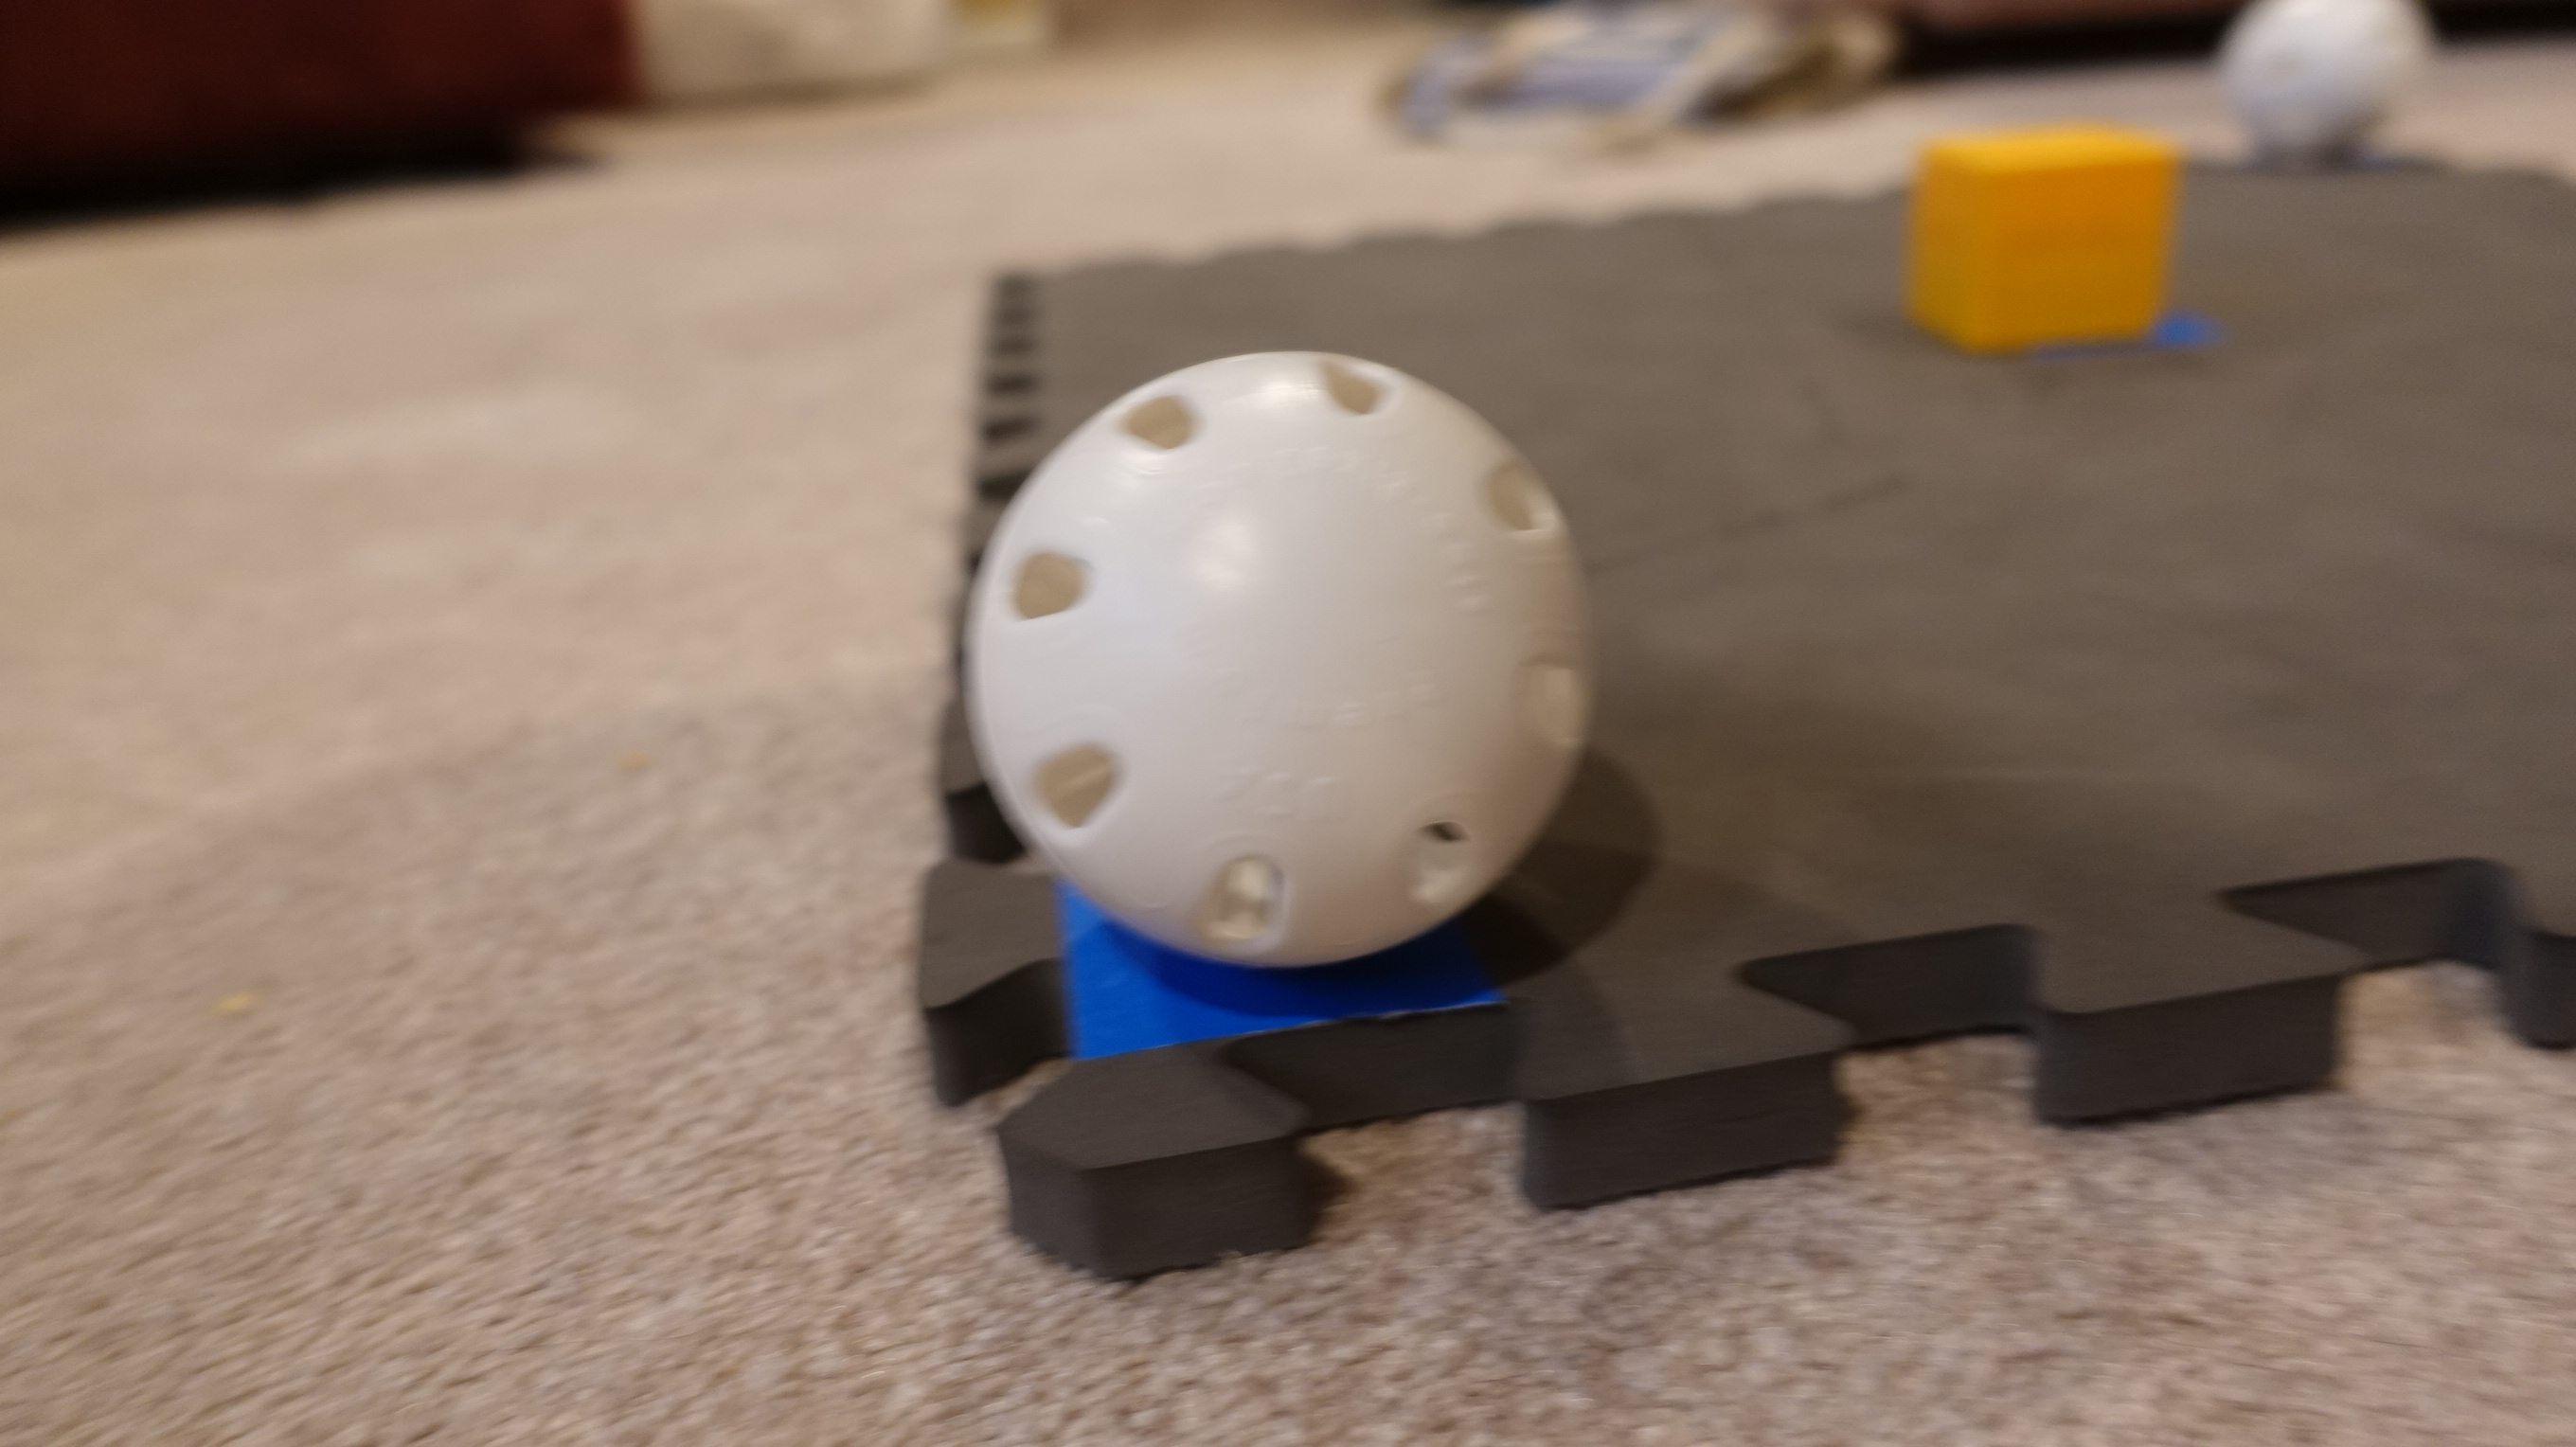gold: (1891, 124, 2181, 368)
silver: (947, 350, 1601, 976), (2215, 2, 2433, 177)
